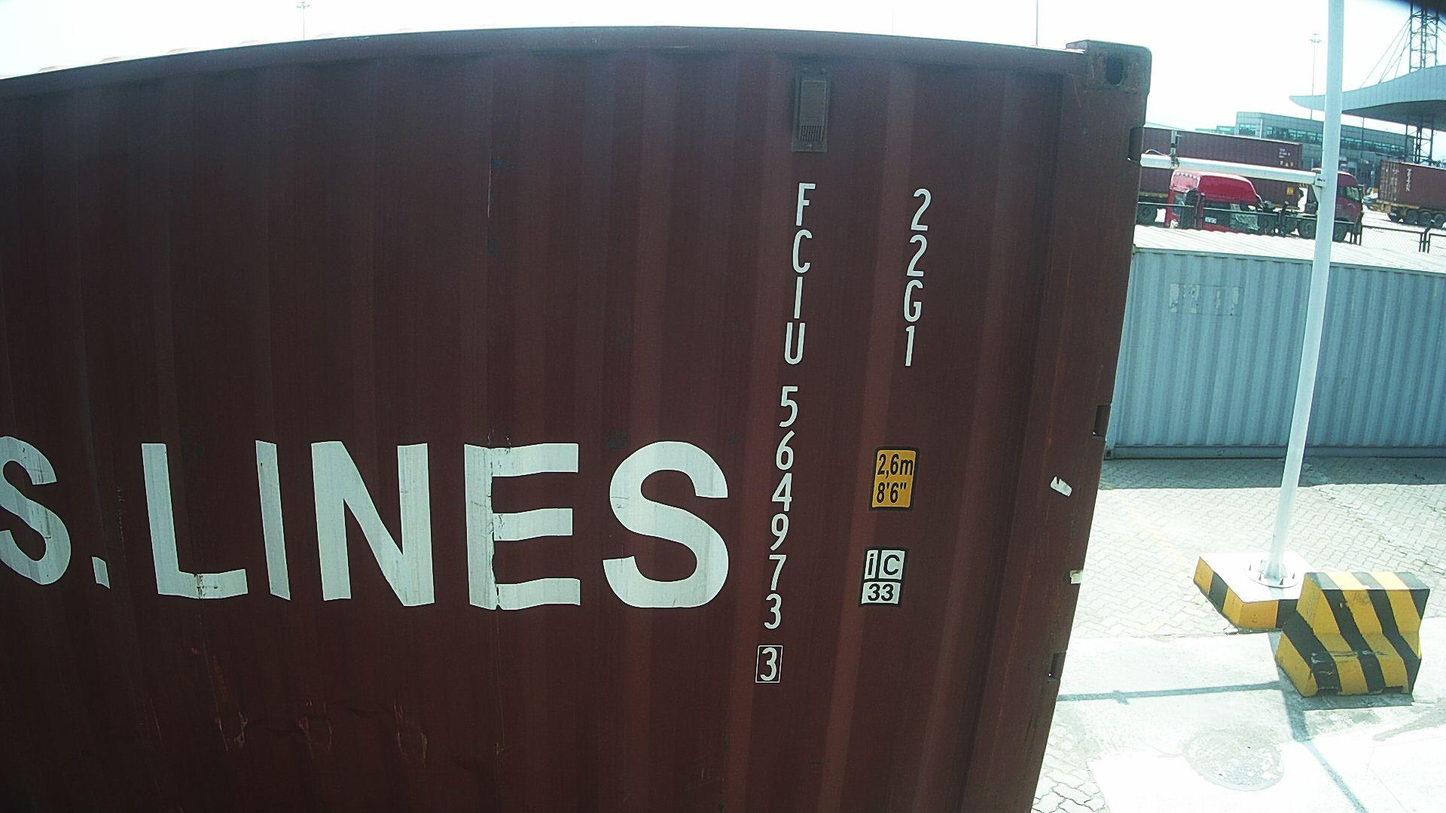container-numbers: (750, 178, 821, 690), (893, 183, 935, 373)
